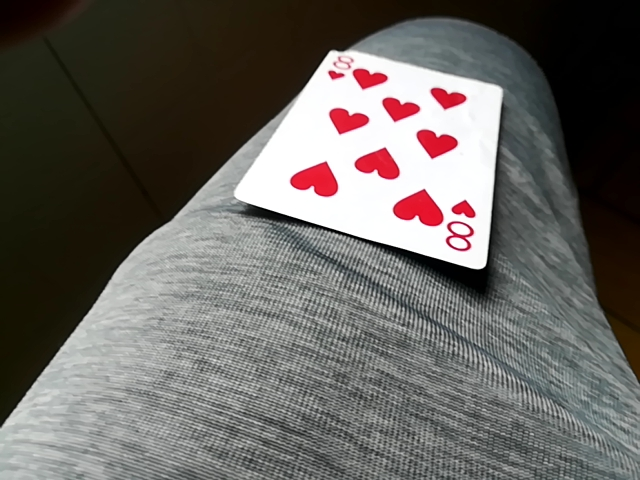hx 8: (233, 46, 509, 269)
